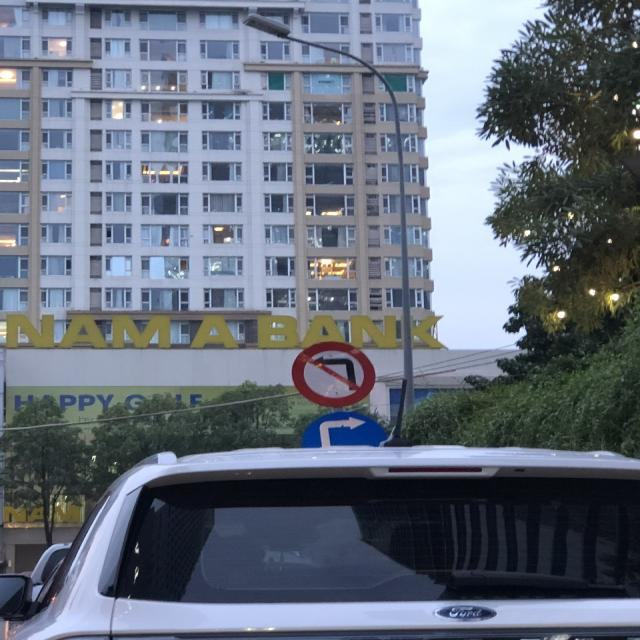Bien bao cam re trai: (292, 338, 377, 412)
